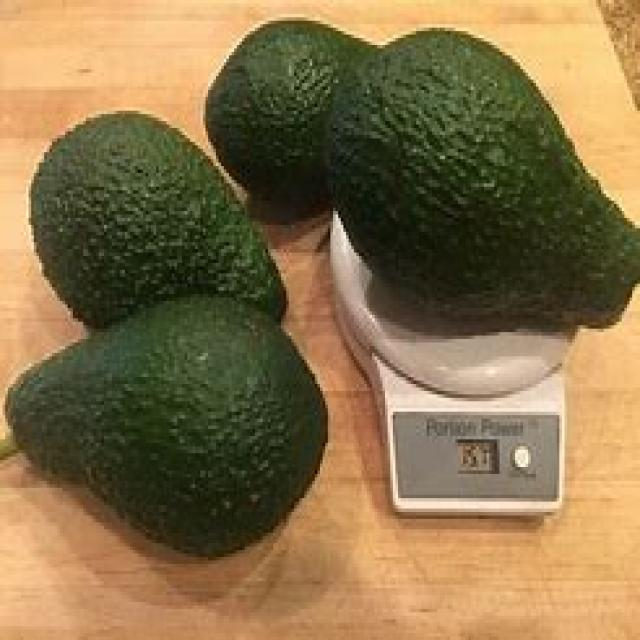avocado: (315, 24, 640, 346), (1, 295, 340, 564), (16, 109, 294, 304), (205, 5, 335, 213)
